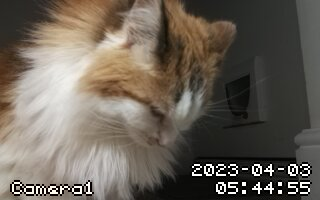clara: (37, 4, 244, 180)
